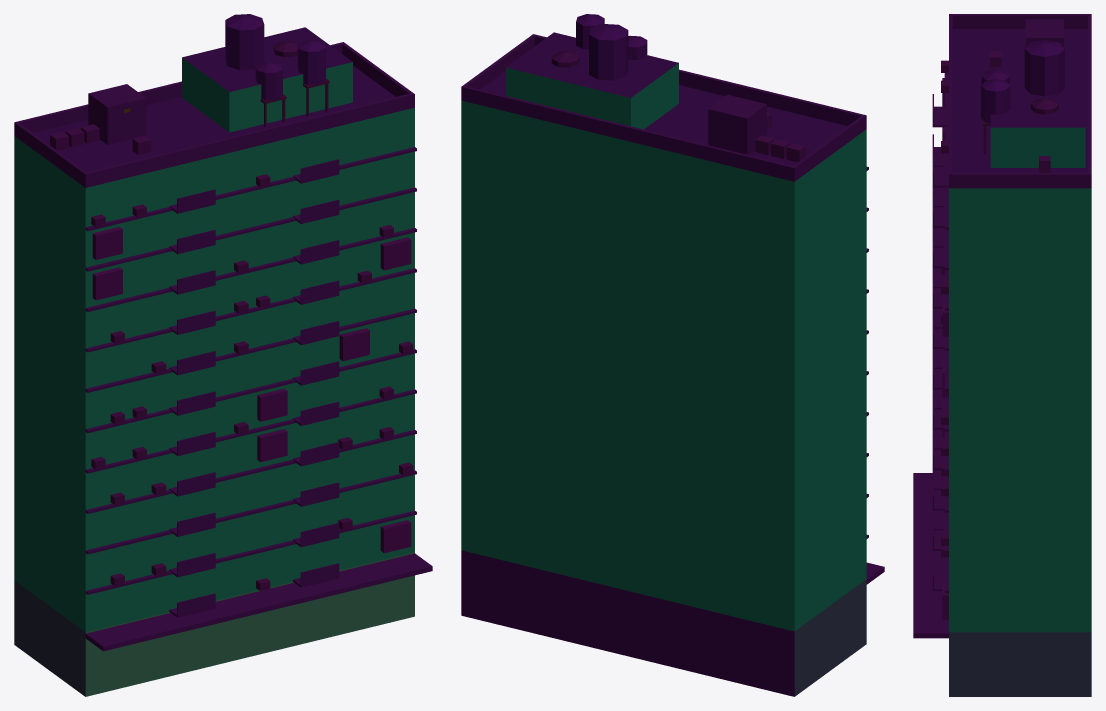
File: slab_f.lod1.glb
3 views of the same model, side by side, from view 1: azimuth 30°, elevation 25°; view 2: azimuth 150°, elevation 25°; view 3: azimuth 270°, elevation 25° (orthographic).
Parts seen in each view (by area): view 1: slab_f.lod1; view 2: slab_f.lod1; view 3: slab_f.lod1.
Part boxes in pixels (x1,y1,x2,y2): slab_f.lod1: (14,14,432,696); slab_f.lod1: (461,14,884,696); slab_f.lod1: (913,14,1091,696).
Bounding box in the file's own units: 25.6 × 44.05 × 12.
